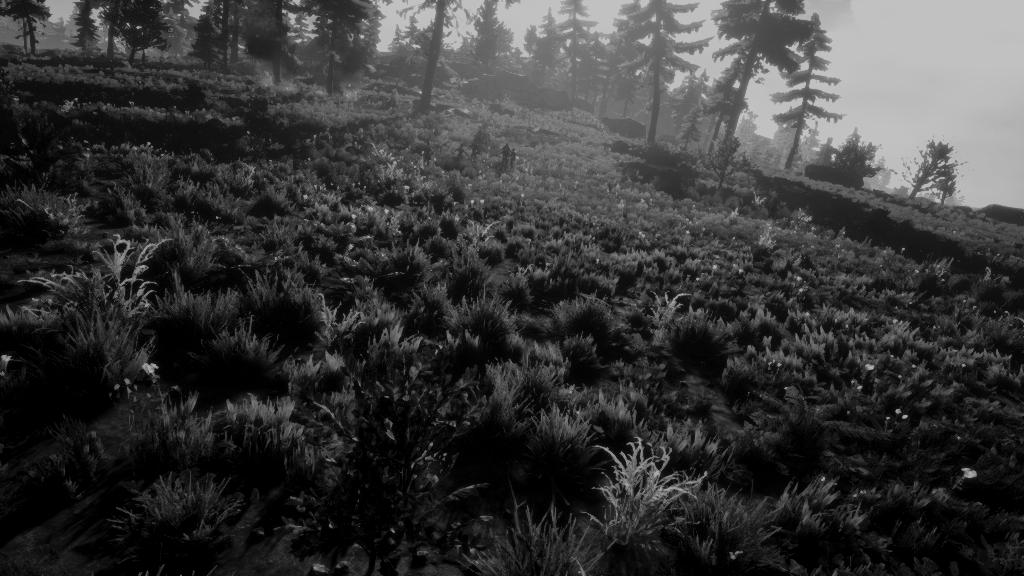Fire: (248, 57, 299, 94), (310, 72, 362, 99)
human: (494, 135, 523, 174), (452, 138, 484, 168), (420, 133, 438, 166)
smoke: (320, 28, 370, 72), (240, 17, 296, 55)
